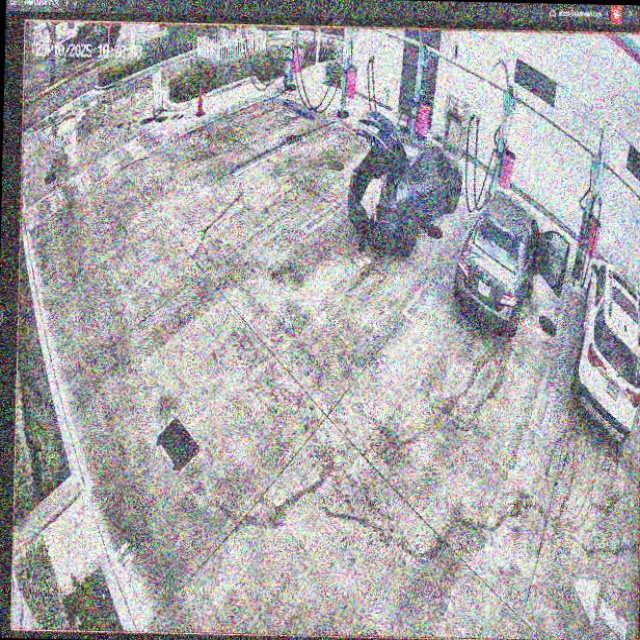Car: (453, 191, 570, 336), (349, 110, 463, 253)
